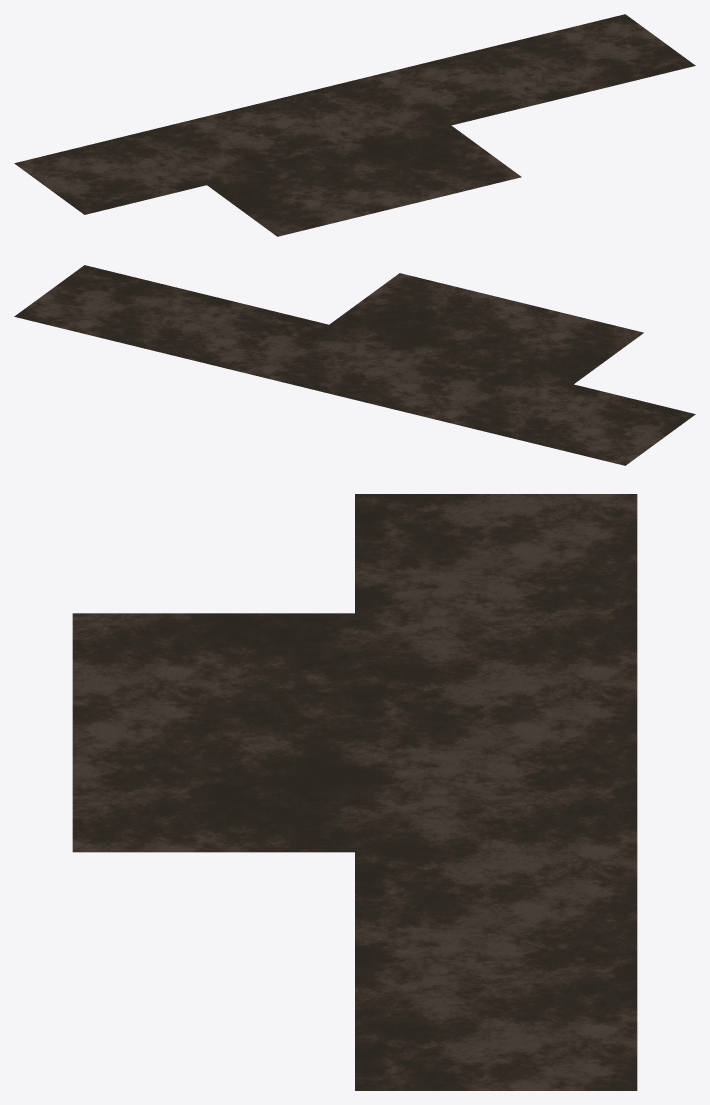
Rendered from floor_1_-6.glb.
The picture shows the model from 3 angles, top to bottom: view 1: azimuth 30°, elevation 25°; view 2: azimuth 150°, elevation 25°; view 3: azimuth 270°, elevation 25°; orthographic projection. The views are drawn at different scales.
Parts seen in each view (by area): view 1: floor_1_-6; view 2: floor_1_-6; view 3: floor_1_-6.
Part boxes in pixels (bbox=[...]): floor_1_-6: bbox=[14, 14, 695, 236]; floor_1_-6: bbox=[14, 265, 695, 465]; floor_1_-6: bbox=[72, 494, 637, 1090].
Size of the model in its own units: 20 by 0 by 8.
Materials: 1 (1 with a texture image).
